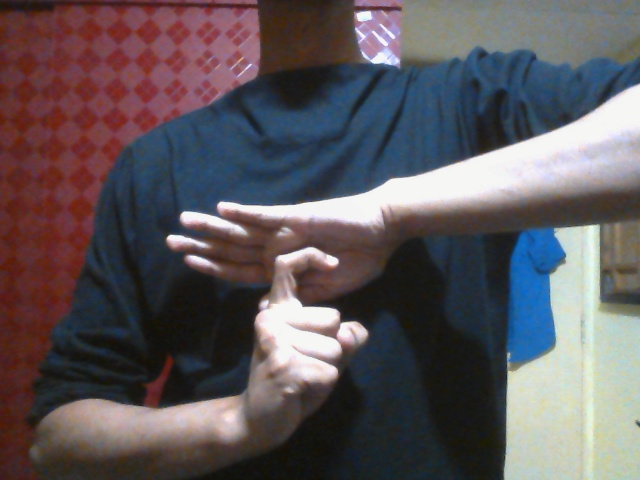R: (163, 197, 405, 452)
